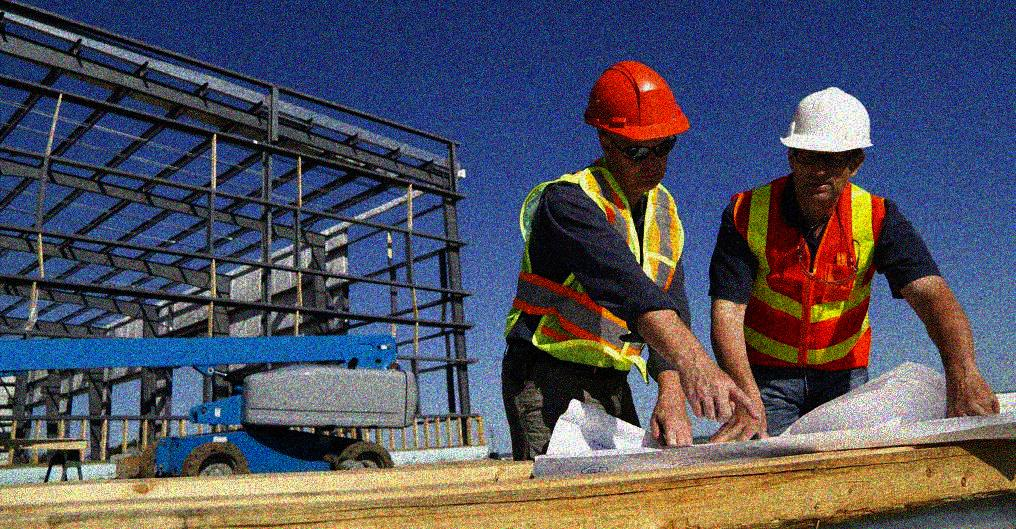helmet: (580, 56, 691, 192), (779, 87, 876, 207)
